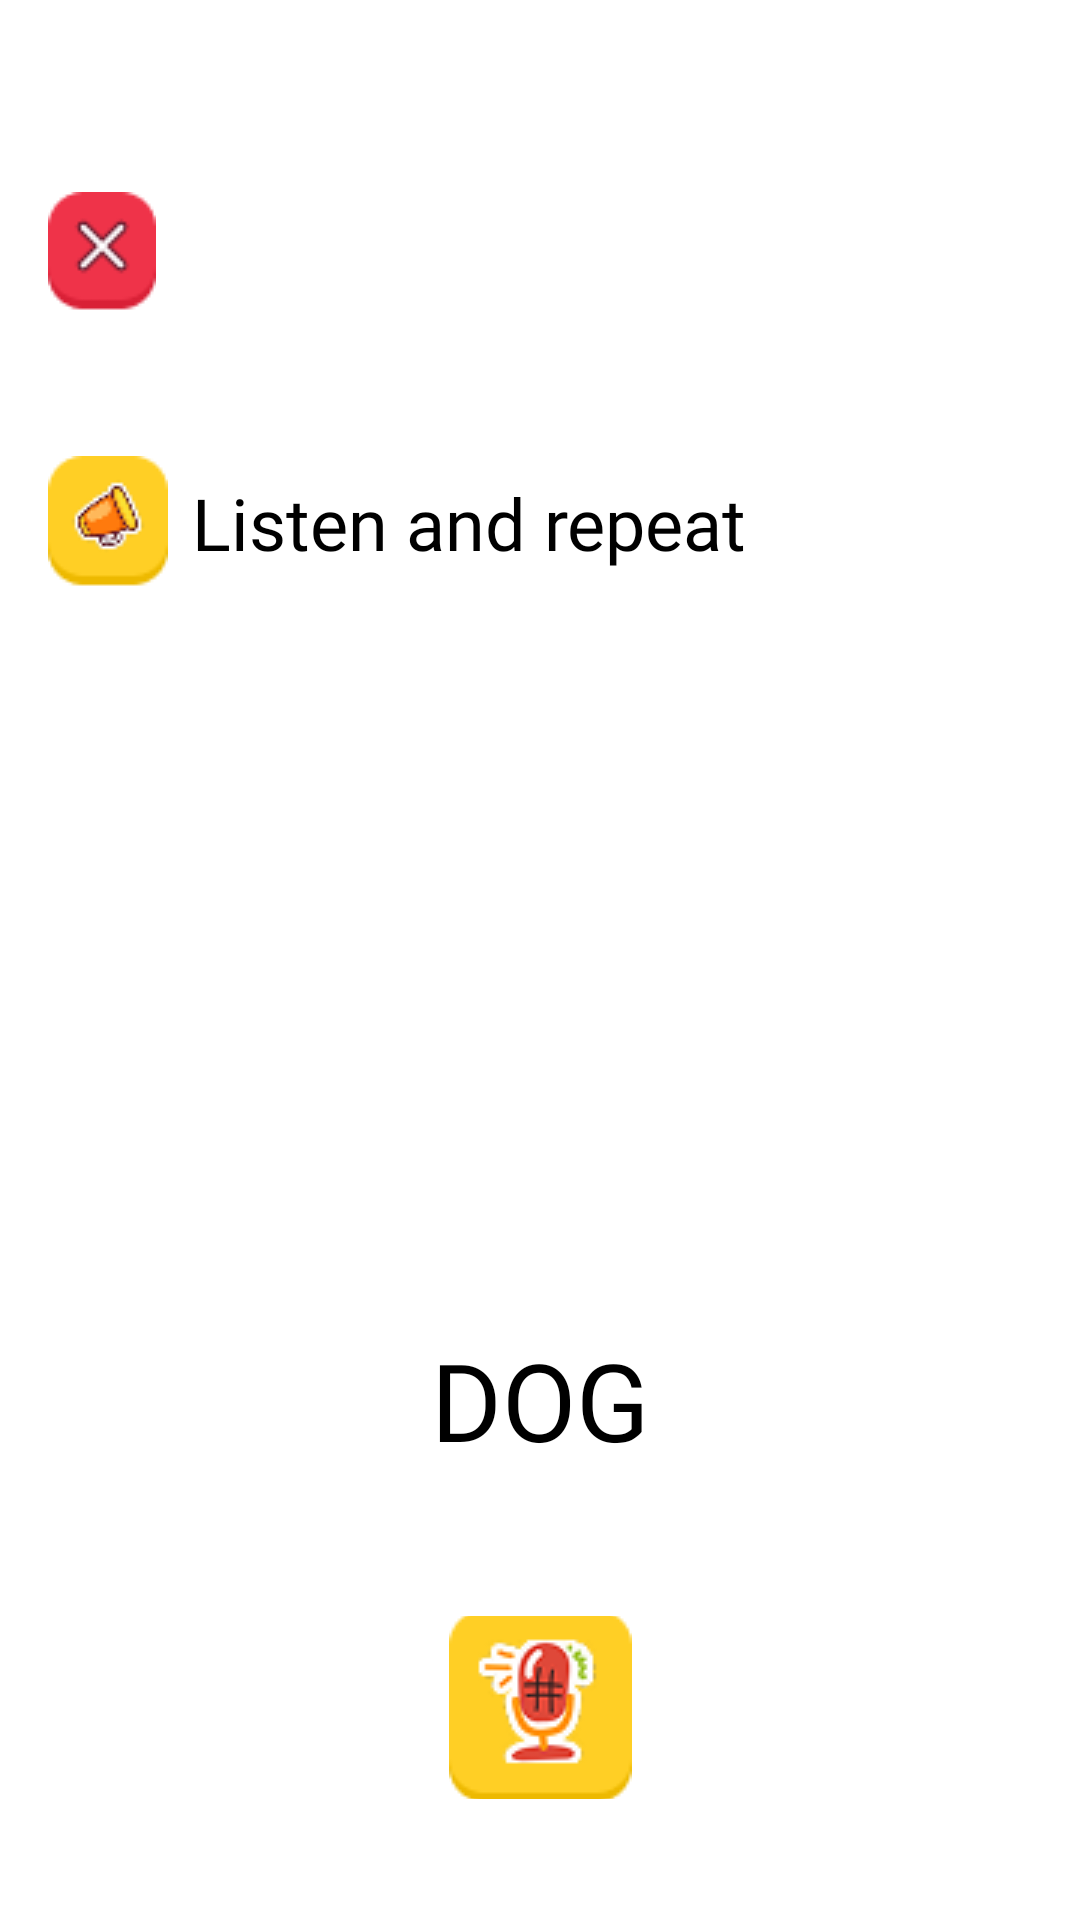

Screen size 1080x1920. Icon name, then its center in pixels as (x,y):
close: (102,251)
mic: (540,1707)
speaker: (108,521)
